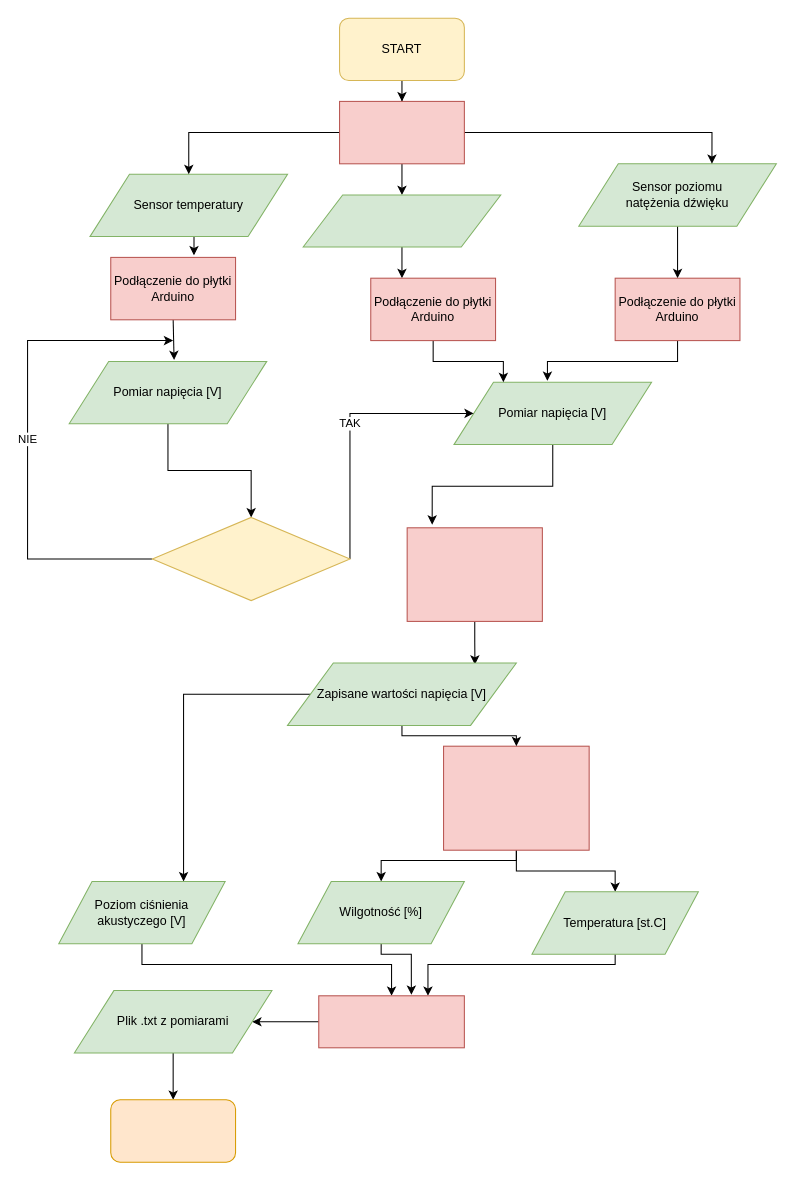
This 795x1180 diagram has some shape labels left out. The box of each missing label's shape, as (x1, y1, x2, y2) in pixels:
Czy pomiar temperatury został wykonany poprawnie?: (151, 516, 350, 601)
Przelicz wartości z napięcia na odpowiednie jednostki mierzonych wielkości: (443, 745, 589, 850)
Sensor wilgotności: (302, 194, 501, 247)
STOP: (110, 1099, 236, 1162)
Ustaw częstotliwość próbkowania: (339, 100, 464, 164)
Zapisz do pliku .txt: (318, 995, 464, 1048)
Zapisz pomiar temperatury, wilgotności oraz poziomu natężenia dźwięku: (406, 527, 542, 621)
